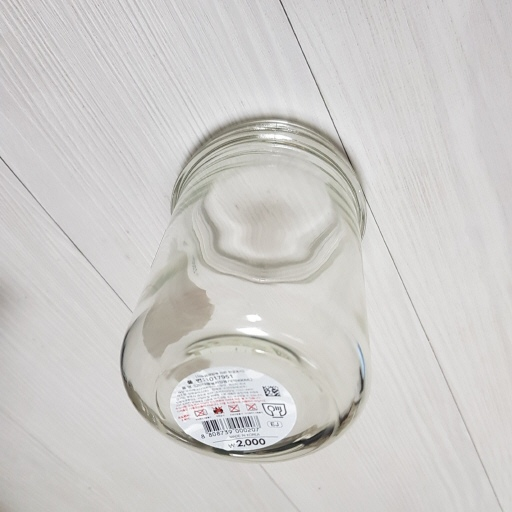Glass_5: (105, 125, 374, 462)
